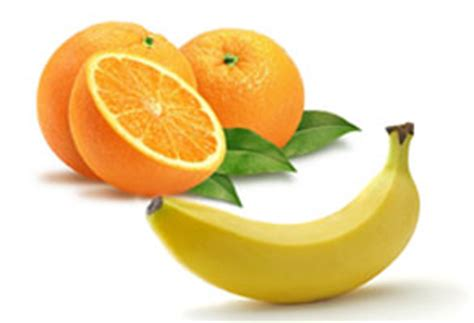banana: (144, 120, 428, 309)
orange: (32, 17, 190, 183), (182, 28, 304, 145)
